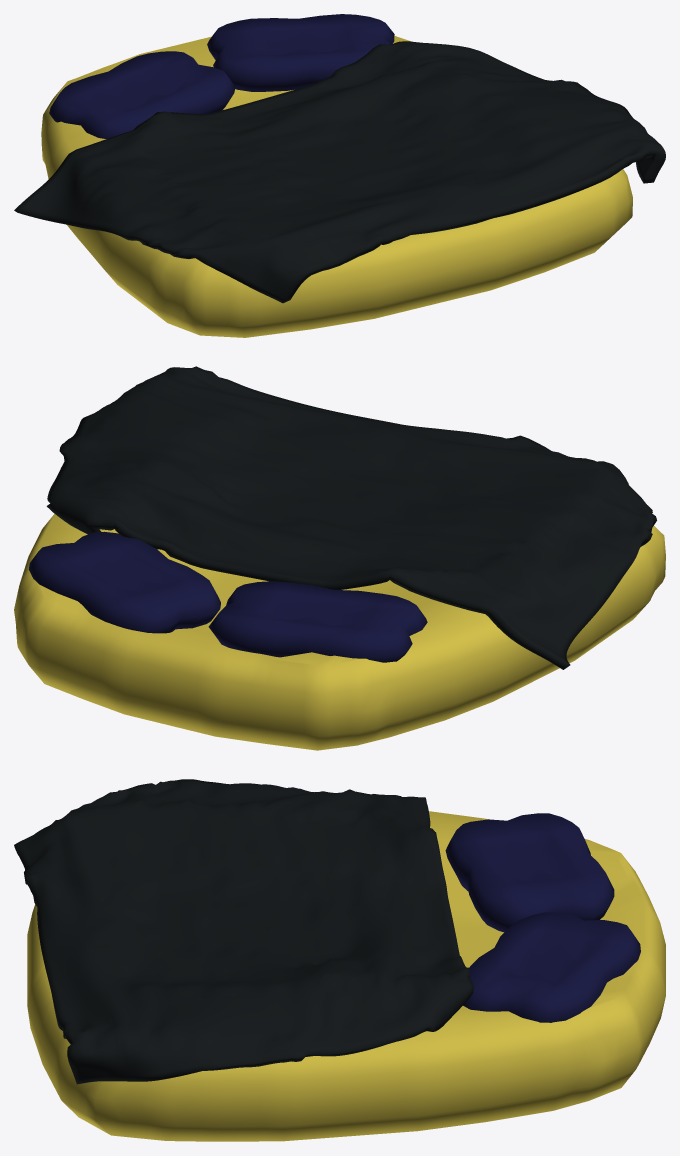
The model's file is Adult Bed.obj.
3 renders of one model, top to bottom at view 1: azimuth 30°, elevation 25°; view 2: azimuth 150°, elevation 25°; view 3: azimuth 270°, elevation 25°, orthographic. The views are drawn at different scales.
Visible parts, largest first — view 1: blanket, Bed.001, pillow.001, pillow; view 2: blanket, Bed.001, pillow, pillow.001; view 3: blanket, Bed.001, pillow, pillow.001.
Boxes of the visible parts, box(x1,y1,x2,y2) form: blanket: box(14, 41, 665, 303); Bed.001: box(41, 35, 632, 337); pillow.001: box(207, 14, 394, 91); pillow: box(49, 51, 235, 138); blanket: box(46, 366, 656, 669); Bed.001: box(14, 513, 665, 750); pillow: box(208, 581, 427, 662); pillow.001: box(29, 531, 220, 633); blanket: box(14, 779, 474, 1084); Bed.001: box(27, 811, 665, 1141); pillow: box(445, 813, 614, 932); pillow.001: box(463, 912, 640, 1022).
Bounding box in the file's own units: 290 × 56.59 × 261.
